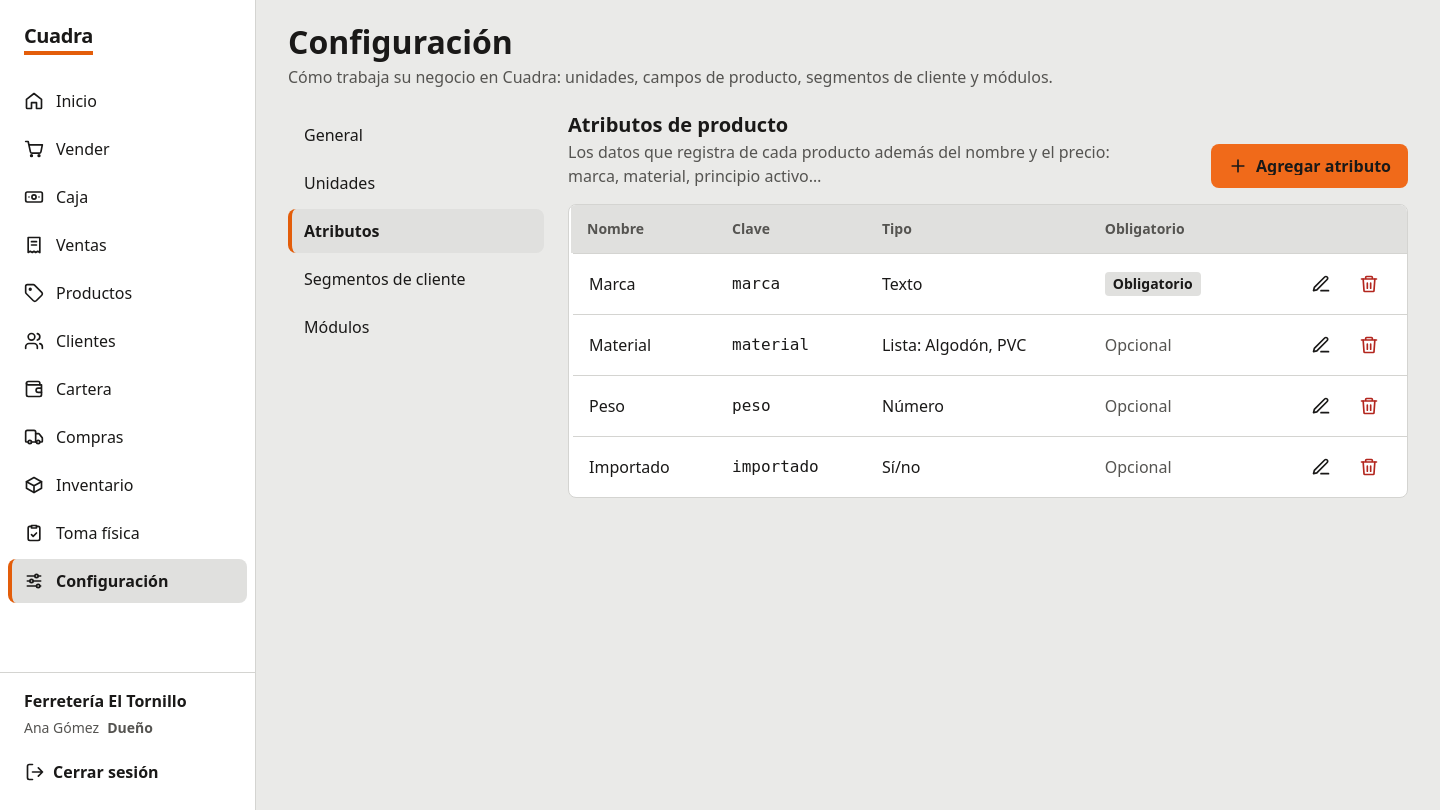
Test case: AttributesSettings › quitar una opción en uso muestra el error de la API
The width and height of the screenshot is (1440, 810).
Click the button named "Editar Material": (1321, 345) x1=1299 y1=323 x2=1343 y2=367
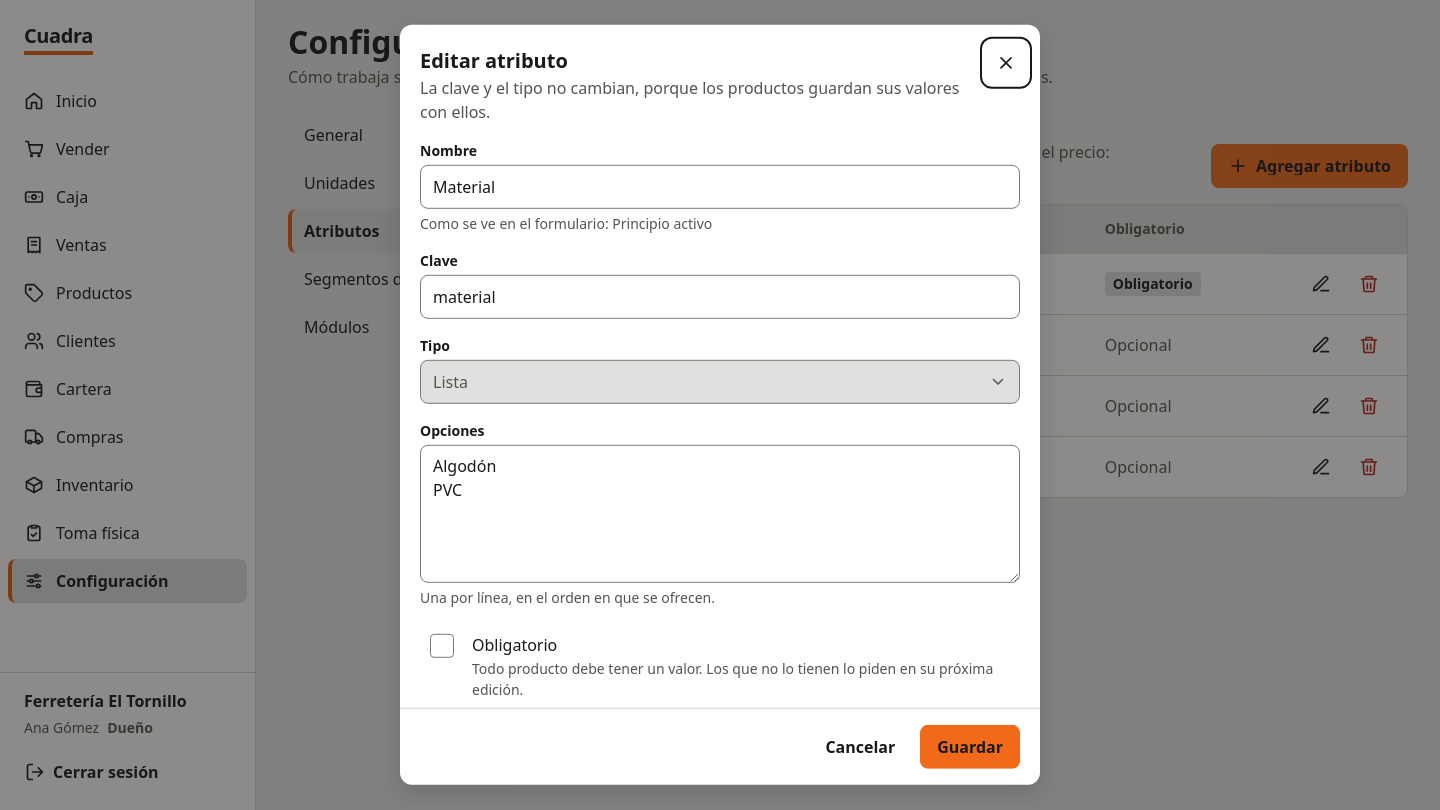
Replace the text in the text box labelled "Opciones" with "Algodón": (720, 514) x1=420 y1=445 x2=1020 y2=583
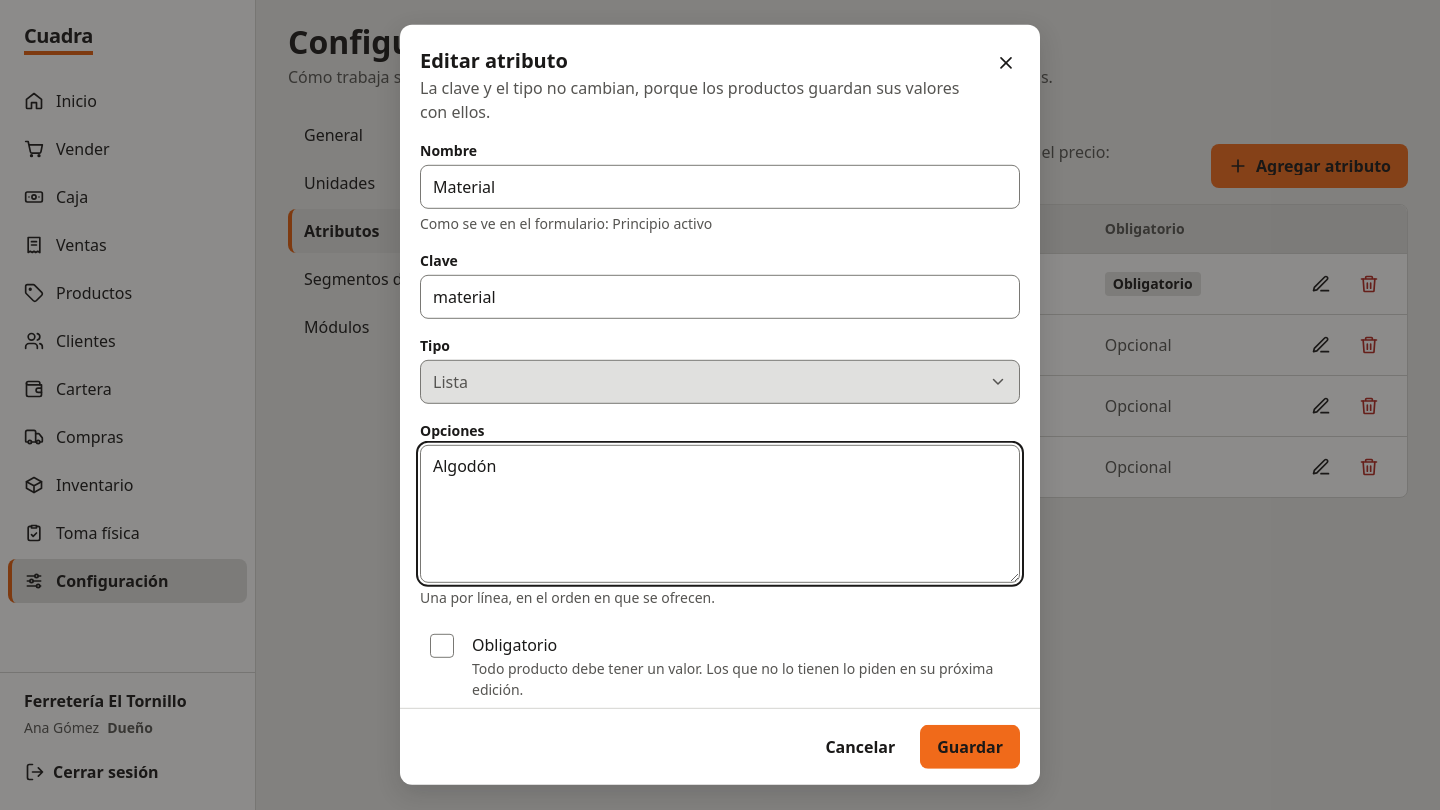
Click the button "Guardar": (970, 747) x1=920 y1=725 x2=1020 y2=769
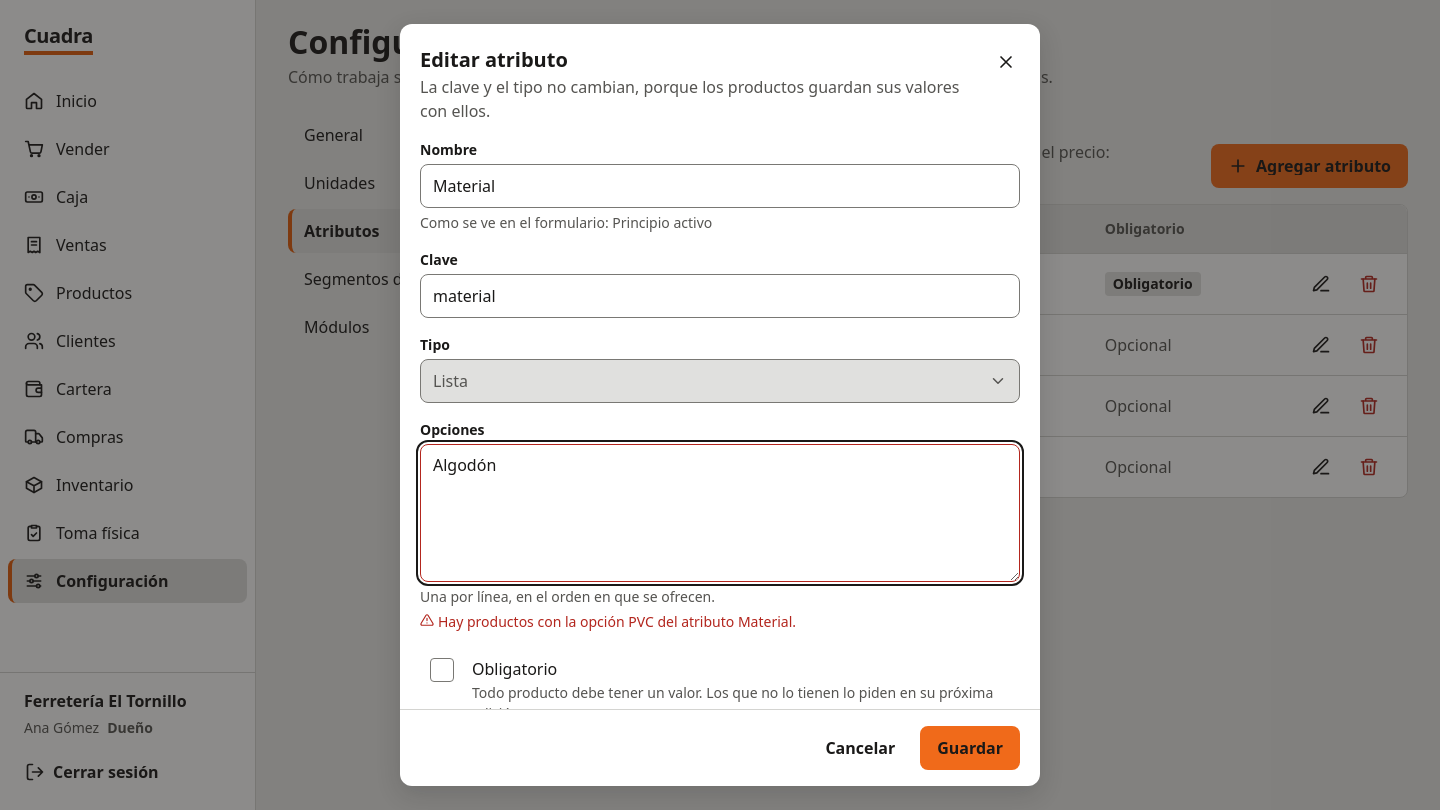
Expected: the text "Hay productos con la opción PVC del atributo Material." is shown, x1=438 y1=611 x2=796 y2=632
